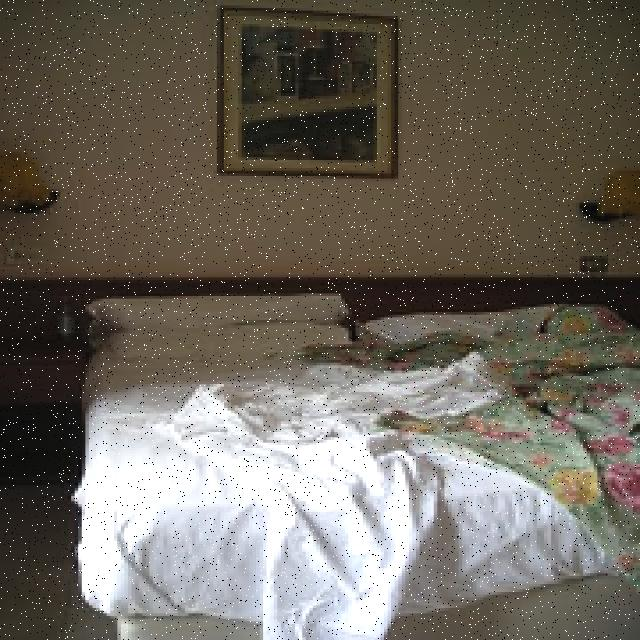bed: (78, 288, 640, 640)
